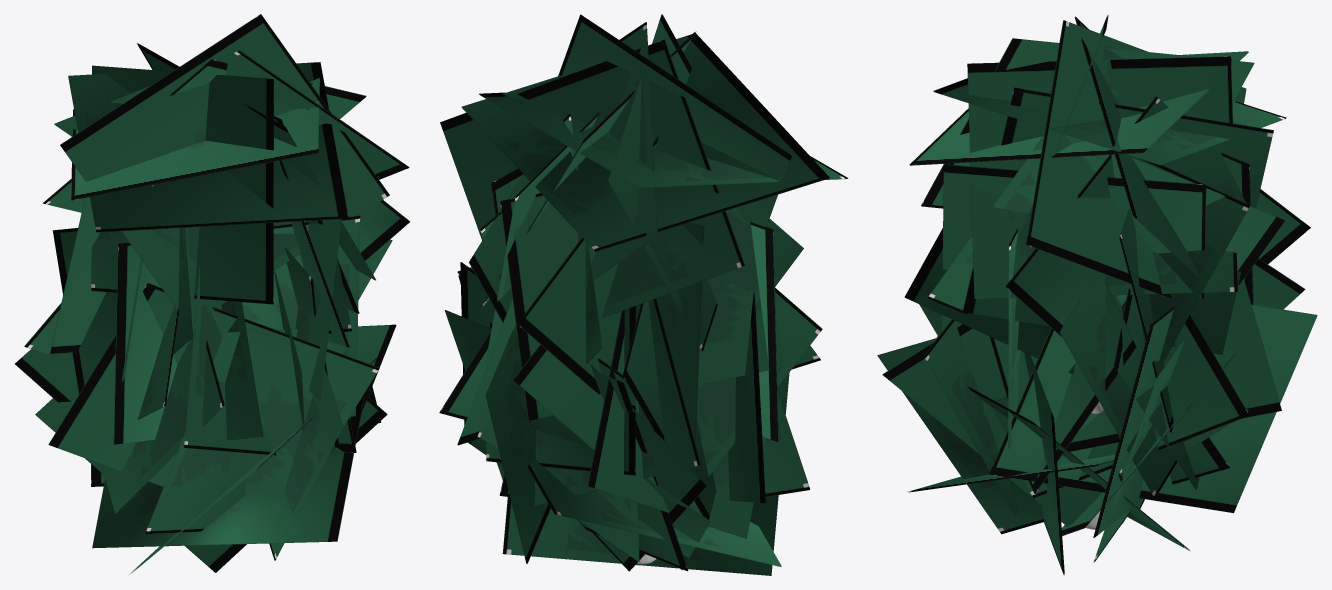
File: Hugo_Trees2_2.fbx
The picture shows the model from 3 angles, left to right: view 1: azimuth 30°, elevation 25°; view 2: azimuth 150°, elevation 25°; view 3: azimuth 270°, elevation 25°; orthographic projection. The views are drawn at different scales.
Visible parts, largest first — view 1: tree2_2; view 2: tree2_2; view 3: tree2_2.
Boxes of the visible parts, box(x1,y1,x2,y2) form: tree2_2: box(15, 14, 409, 574); tree2_2: box(439, 14, 848, 575); tree2_2: box(877, 15, 1317, 575).
Bounding box in the file's own units: 168 × 254 × 186.
